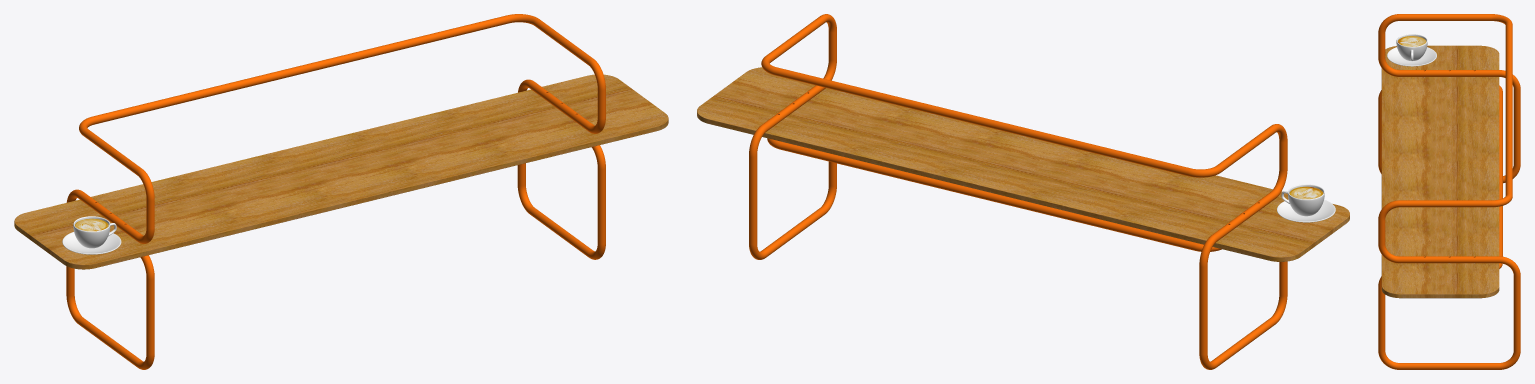
File: bench-texturedv2.glb
The picture shows the model from 3 angles, left to right: view 1: azimuth 30°, elevation 25°; view 2: azimuth 150°, elevation 25°; view 3: azimuth 270°, elevation 25°; orthographic projection. The views are drawn at different scales.
Parts seen in each view (by area): view 1: Default(D2FF133B-3B5E-4C29-93F4-2B5826118A69), Default(A271B380-B4EA-4CB1-B994-C95541BAF5E3), Default(0D948ACC-1C31-4A8F-8CEB-5C3261446646), meshId0_name_0, Default(9CC83409-1D4E-47EF-A8C5-4C99EB8F1C23); view 2: Default(D2FF133B-3B5E-4C29-93F4-2B5826118A69), Default(A271B380-B4EA-4CB1-B994-C95541BAF5E3), Default(0D948ACC-1C31-4A8F-8CEB-5C3261446646), meshId0_name_0, Default(9CC83409-1D4E-47EF-A8C5-4C99EB8F1C23); view 3: Default(D2FF133B-3B5E-4C29-93F4-2B5826118A69), Default(A271B380-B4EA-4CB1-B994-C95541BAF5E3), meshId0_name_0, Default(9CC83409-1D4E-47EF-A8C5-4C99EB8F1C23), Default(0D948ACC-1C31-4A8F-8CEB-5C3261446646), meshId0_name_1.
Part boxes in pixels (x1,y1,x2,y2): Default(D2FF133B-3B5E-4C29-93F4-2B5826118A69): [15, 74, 667, 264]; Default(A271B380-B4EA-4CB1-B994-C95541BAF5E3): [66, 14, 605, 369]; Default(0D948ACC-1C31-4A8F-8CEB-5C3261446646): [14, 127, 656, 269]; meshId0_name_0: [62, 216, 121, 254]; Default(9CC83409-1D4E-47EF-A8C5-4C99EB8F1C23): [14, 74, 668, 264]; Default(D2FF133B-3B5E-4C29-93F4-2B5826118A69): [697, 67, 1349, 256]; Default(A271B380-B4EA-4CB1-B994-C95541BAF5E3): [749, 14, 1287, 369]; Default(0D948ACC-1C31-4A8F-8CEB-5C3261446646): [697, 112, 1349, 261]; meshId0_name_0: [1277, 184, 1335, 222]; Default(9CC83409-1D4E-47EF-A8C5-4C99EB8F1C23): [697, 67, 1349, 257]; Default(D2FF133B-3B5E-4C29-93F4-2B5826118A69): [1382, 45, 1498, 293]; Default(A271B380-B4EA-4CB1-B994-C95541BAF5E3): [1378, 14, 1520, 369]; meshId0_name_0: [1387, 34, 1436, 66]; Default(9CC83409-1D4E-47EF-A8C5-4C99EB8F1C23): [1381, 45, 1499, 294]; Default(0D948ACC-1C31-4A8F-8CEB-5C3261446646): [1401, 287, 1499, 297]; meshId0_name_1: [1397, 36, 1426, 46].
Size of the model in its own units: 2 by 0.634 by 0.4847.
10 materials, 7 textured.
